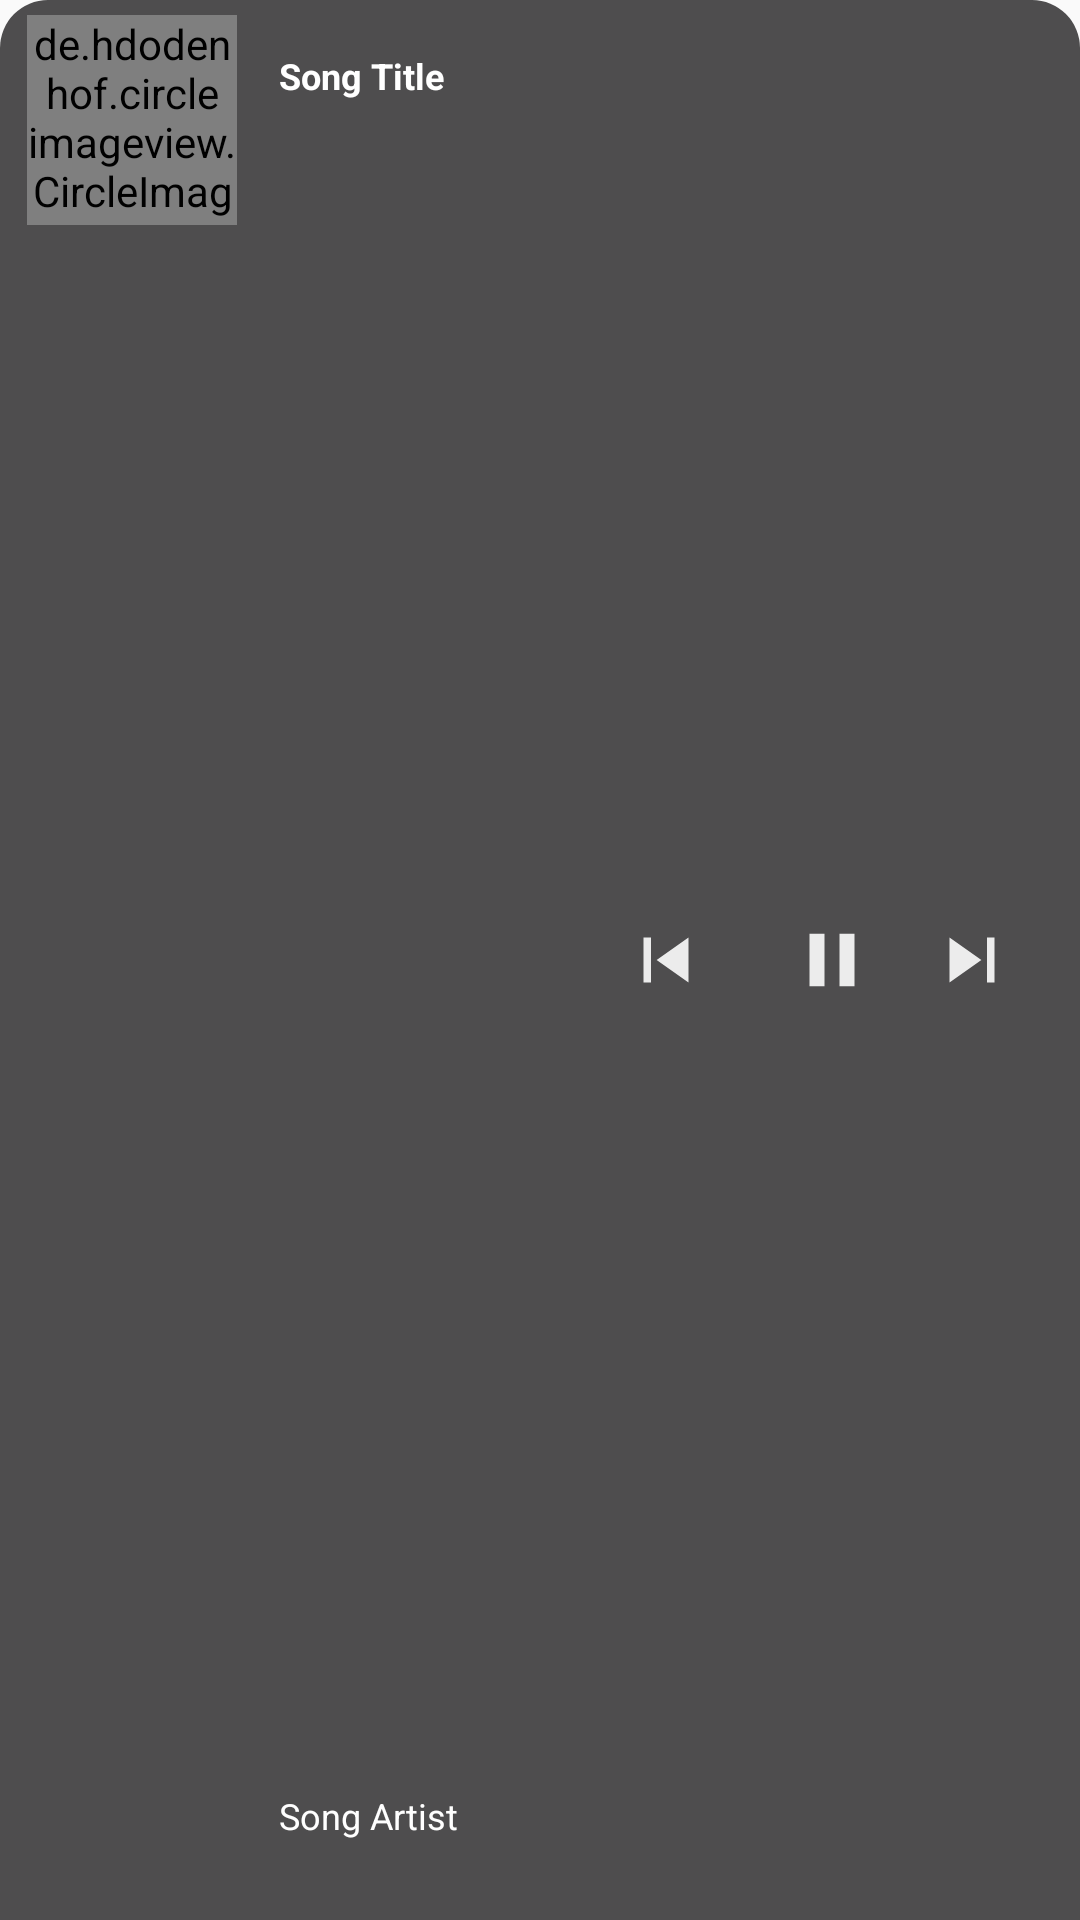

Where icons sit on this 1080w x 1920h app screen, as (x1, y1, x2, y2):
controller next: (949, 937, 995, 983)
controller pause: (809, 933, 855, 987)
controller previous: (643, 937, 689, 983)
